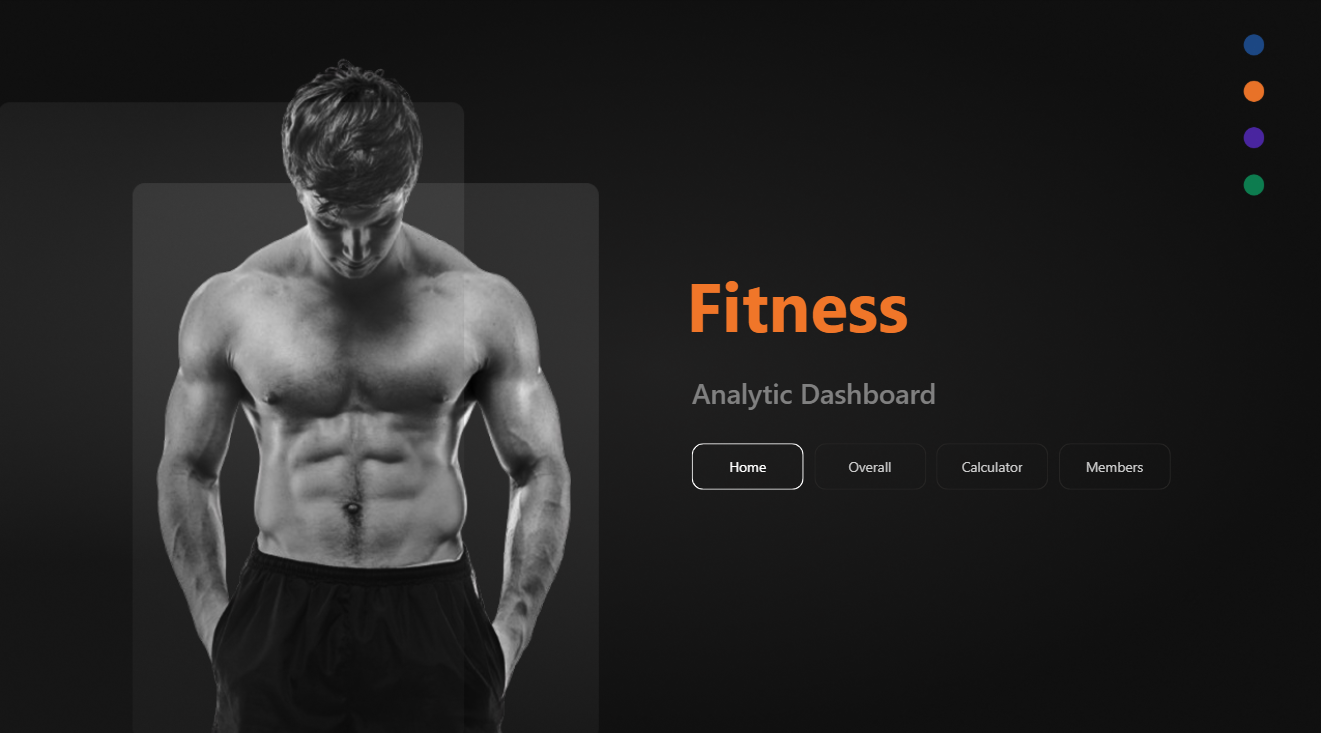

Layout of this report page (visuals, bound fields, positions):
{"tool":"powerbi","page":{"name":"Home","canvas":[1280,720],"ordinal":0},"visuals":[{"type":"shape","box":[652.7,243.7,237.7,103.8],"z":0},{"type":"shape","box":[669.6,331.8,507.9,98.9],"z":1000},{"type":"pageNavigator","box":[669.6,430.7,464.5,45.8],"z":2000},{"type":"advancedSlicerVisual","fields":{"Values":["ColorCodes.Icon"]},"box":[1190.8,22.9,43.4,183.4],"z":3000}]}

Visuals, with their boxes in screenshot pixels (x1, y1, x2, y2), scaled from the page's 1280x720 canvas onto the 1321x733 screenshot:
shape: left=674, top=248, right=919, bottom=354
shape: left=691, top=338, right=1215, bottom=438
pageNavigator: left=691, top=438, right=1170, bottom=485
advancedSlicerVisual - ColorCodes.Icon: left=1229, top=23, right=1274, bottom=210
